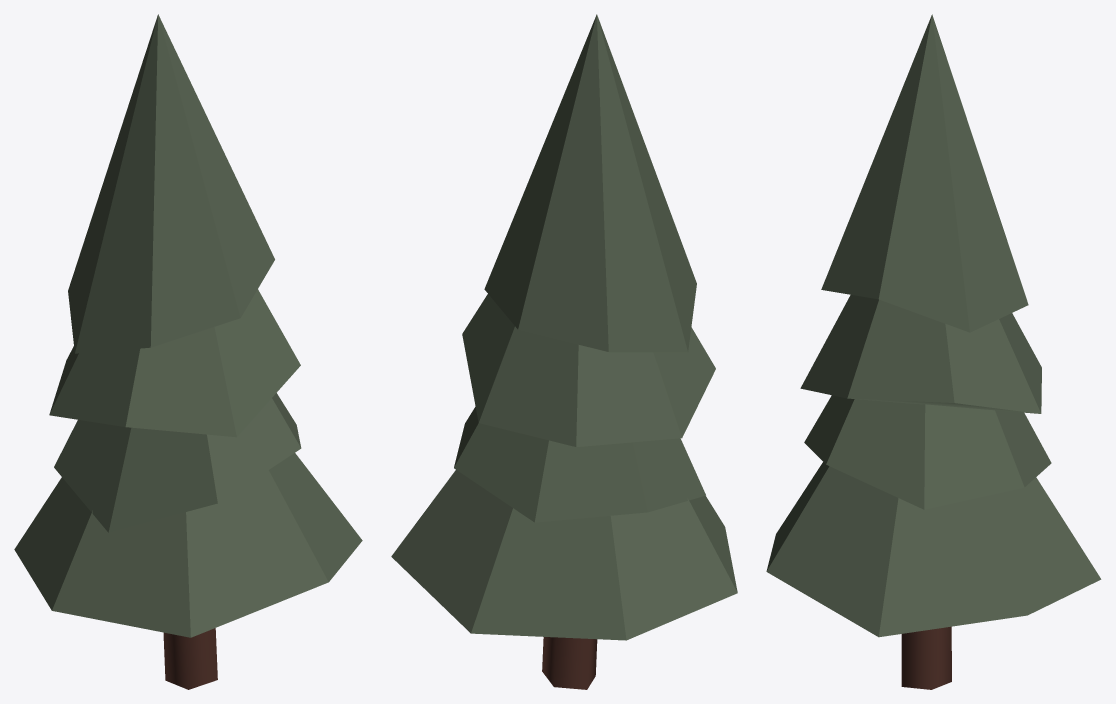
File: FirTree_1.fbx
3 views of the same model, side by side, from view 1: azimuth 30°, elevation 25°; view 2: azimuth 150°, elevation 25°; view 3: azimuth 270°, elevation 25° (orthographic). The views are drawn at different scales.
Visible parts, largest first — view 1: FirTree26; view 2: FirTree26; view 3: FirTree26.
Boxes of the visible parts, left/top/right/bottom form: FirTree26: left=14, top=14, right=362, bottom=689; FirTree26: left=391, top=14, right=737, bottom=689; FirTree26: left=766, top=14, right=1101, bottom=689.
Bounding box in the file's own units: 376 × 801 × 371.
